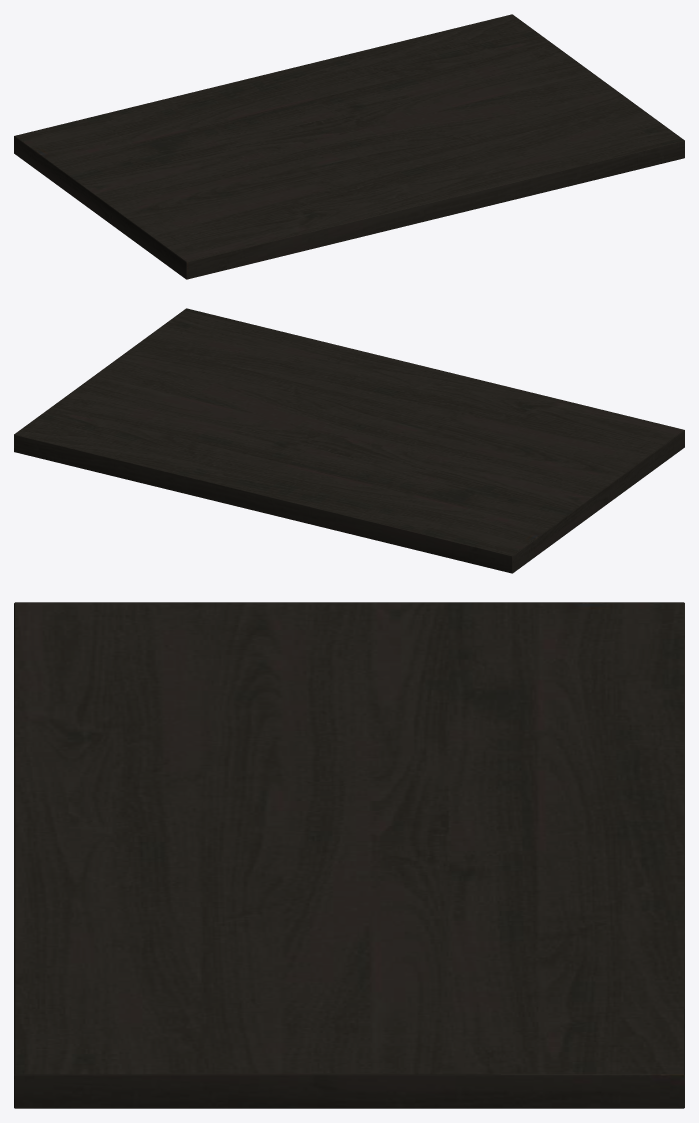
Rendered from LINNMON_00251338.glb.
The picture shows the model from 3 angles, top to bottom: view 1: azimuth 30°, elevation 25°; view 2: azimuth 150°, elevation 25°; view 3: azimuth 270°, elevation 25°; orthographic projection. The views are drawn at different scales.
Visible parts, largest first — view 1: model; view 2: model; view 3: model.
Part boxes in pixels (x1=…): model: x1=14, y1=14, x2=684, y2=279; model: x1=14, y1=308, x2=684, y2=573; model: x1=14, y1=602, x2=684, y2=1108.
Size of the model in its own units: 1 by 0.0341 by 0.6001.
1 material, 1 textured.
